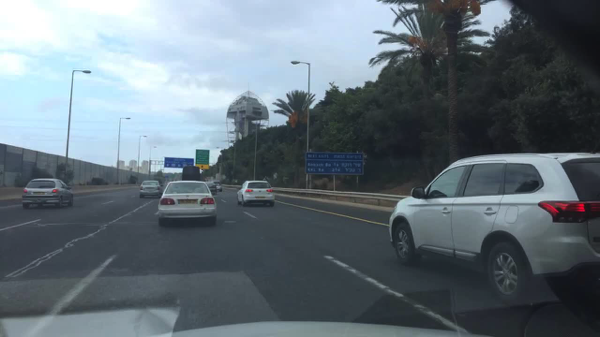car: (387, 151, 599, 307), (155, 181, 218, 225), (21, 177, 74, 208), (237, 180, 275, 207), (138, 180, 164, 199), (206, 181, 216, 193), (214, 181, 221, 191)
traffic sign: (305, 151, 365, 176), (165, 157, 194, 169), (195, 148, 209, 170)
truck: (182, 165, 200, 180)
